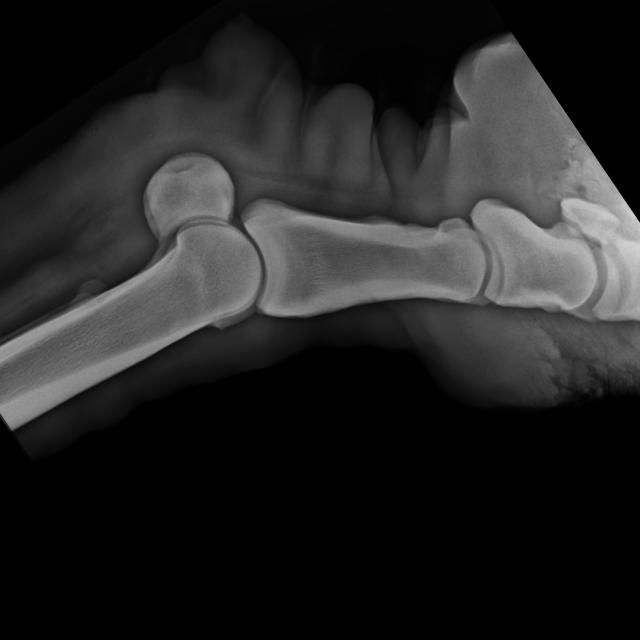joint-ht8A: (48, 64, 428, 459)
